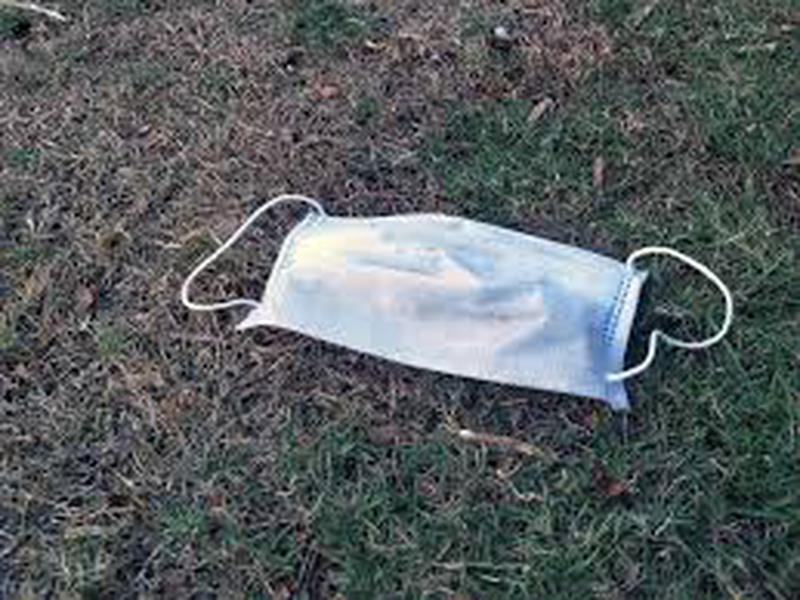mask: (172, 191, 738, 418)
